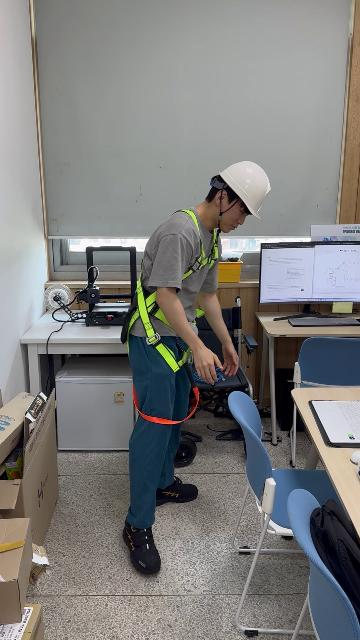helmet_worn: (216, 159, 272, 219)
shoe_worn: (122, 517, 160, 576), (156, 477, 198, 504)
vest_worn: (121, 220, 215, 369)
